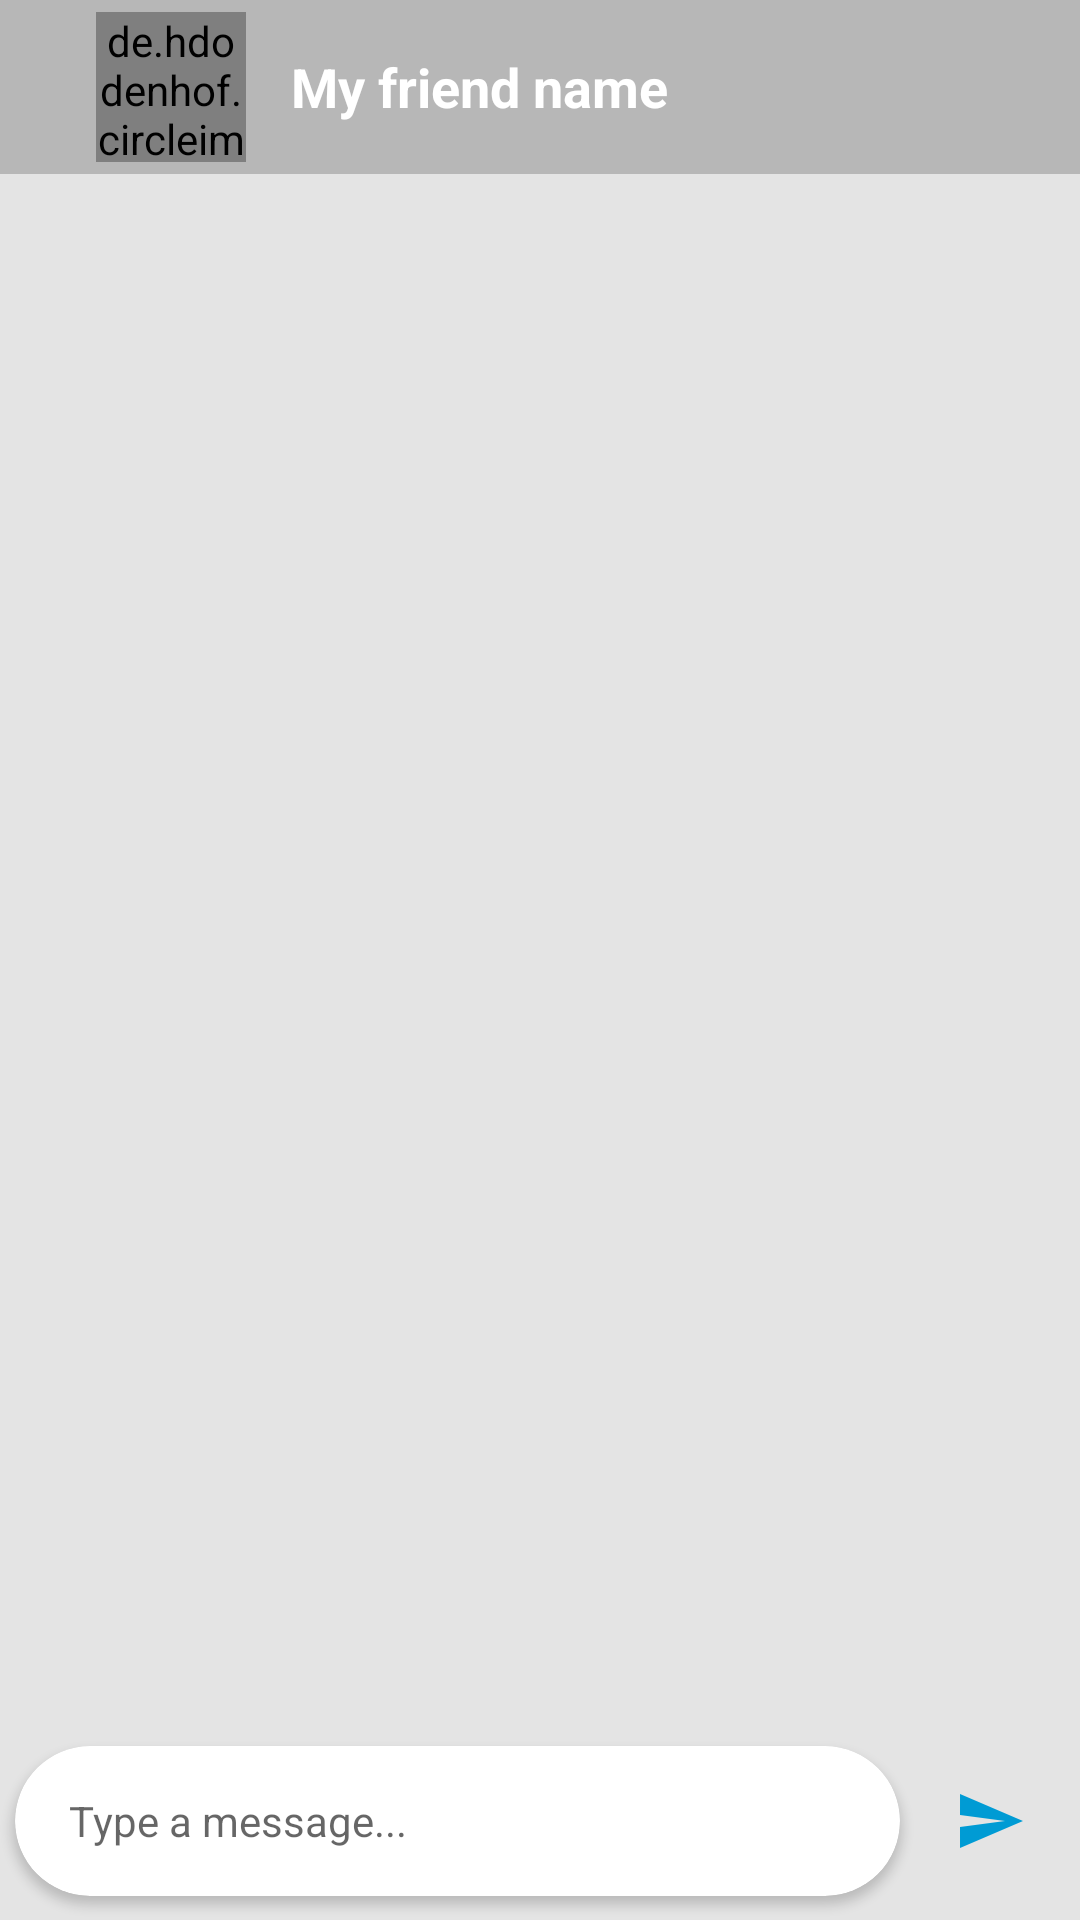

Named icons in this screenshot (1080*1920) and their bounding boxes, (x1, y1, x2, y2):
send: (960, 1794, 1023, 1848)
